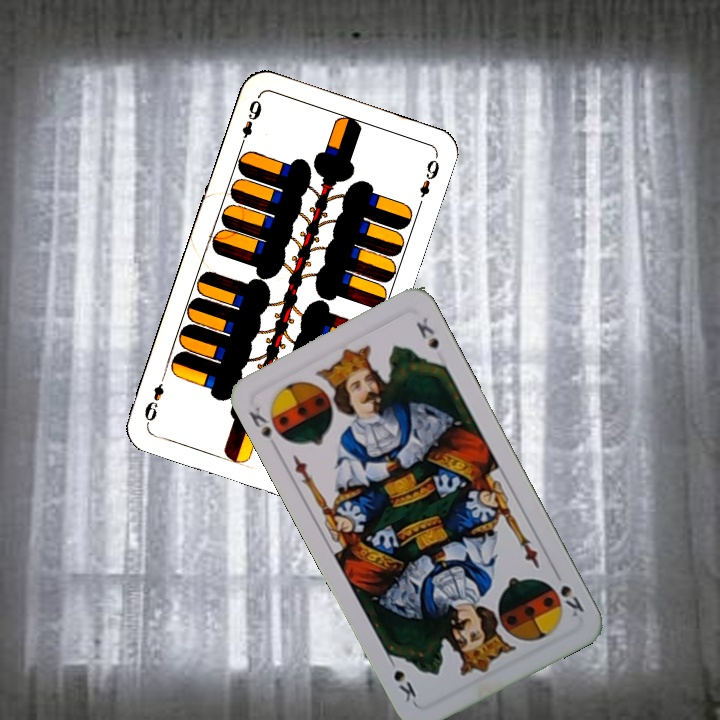E9: (236, 95, 265, 150)
SK: (546, 579, 587, 620), (245, 402, 274, 442)
